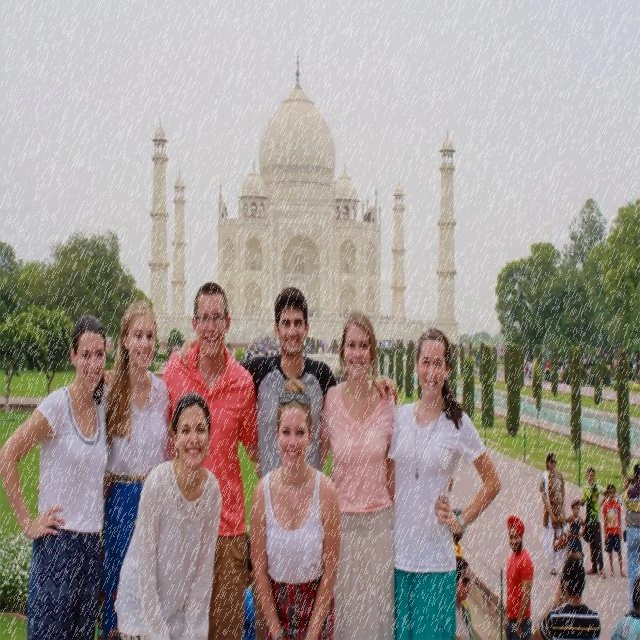pessoa: (254, 310, 456, 639), (176, 283, 400, 482), (386, 322, 504, 638), (0, 312, 112, 639), (160, 277, 260, 638), (112, 388, 224, 639), (93, 297, 173, 639), (248, 372, 344, 638), (222, 328, 416, 366), (530, 553, 605, 639), (570, 464, 610, 580), (502, 514, 536, 638), (616, 460, 640, 620), (523, 348, 621, 387), (540, 451, 566, 576), (600, 481, 628, 582), (241, 522, 258, 639), (609, 573, 639, 639), (301, 302, 399, 322), (456, 554, 476, 638), (564, 499, 586, 563), (452, 506, 464, 562), (466, 345, 480, 377), (498, 347, 503, 361)
